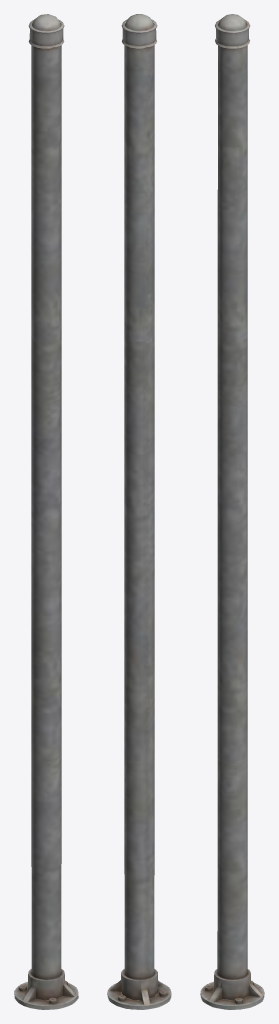
The model's file is fence_post.glb.
The picture shows the model from 3 angles, left to right: view 1: azimuth 30°, elevation 25°; view 2: azimuth 210°, elevation 25°; view 3: azimuth 270°, elevation 25°; orthographic projection.
Parts seen in each view (by area): view 1: fence_post; view 2: fence_post; view 3: fence_post.
Part boxes in pixels (x1,y1,x2,y2): fence_post: (14,14,78,1009); fence_post: (107,14,171,1009); fence_post: (200,14,264,1009).
Size of the model in its own units: 0.1496 by 2.52 by 0.1496.
1 material, 1 textured.
